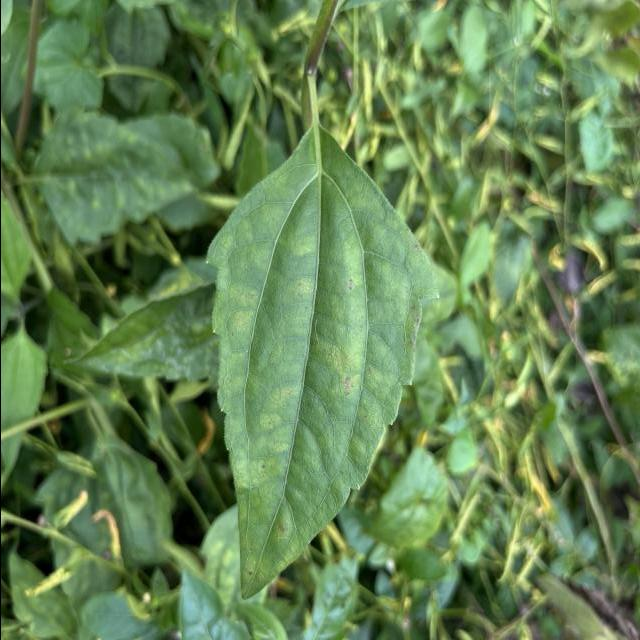Chromolaena odorata: (201, 118, 444, 604)
